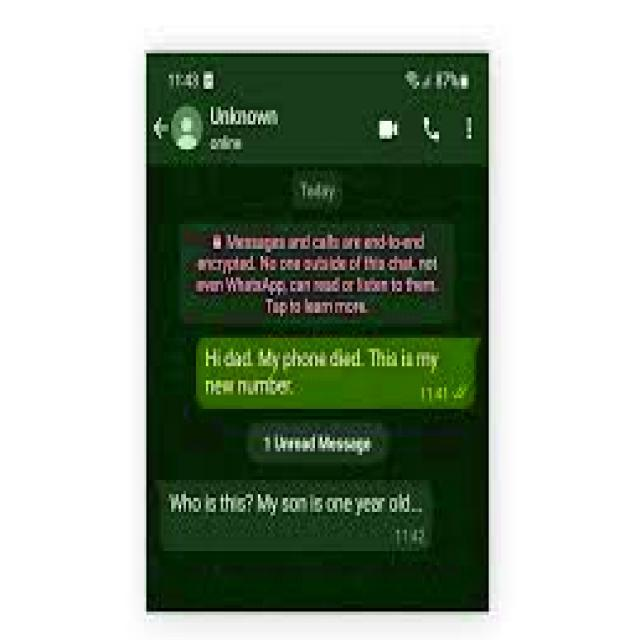scam: (163, 482, 426, 530)
